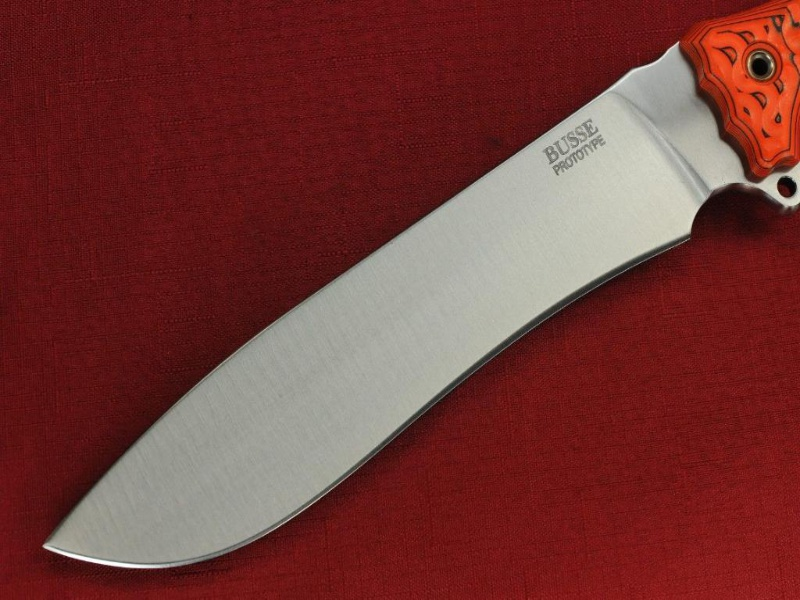knife: (38, 20, 800, 579)
